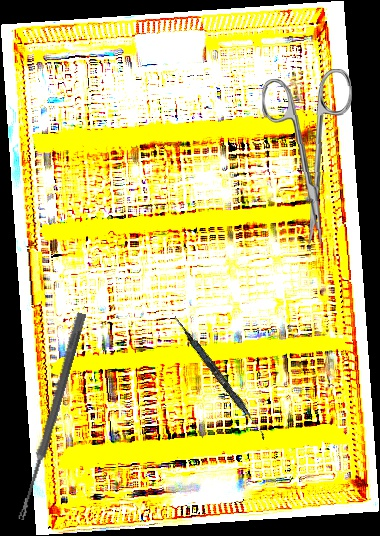Iris Scissors: (260, 68, 358, 248)
Spatula Surgical: (169, 314, 271, 441)
Surgical Spoon: (16, 311, 87, 522)
